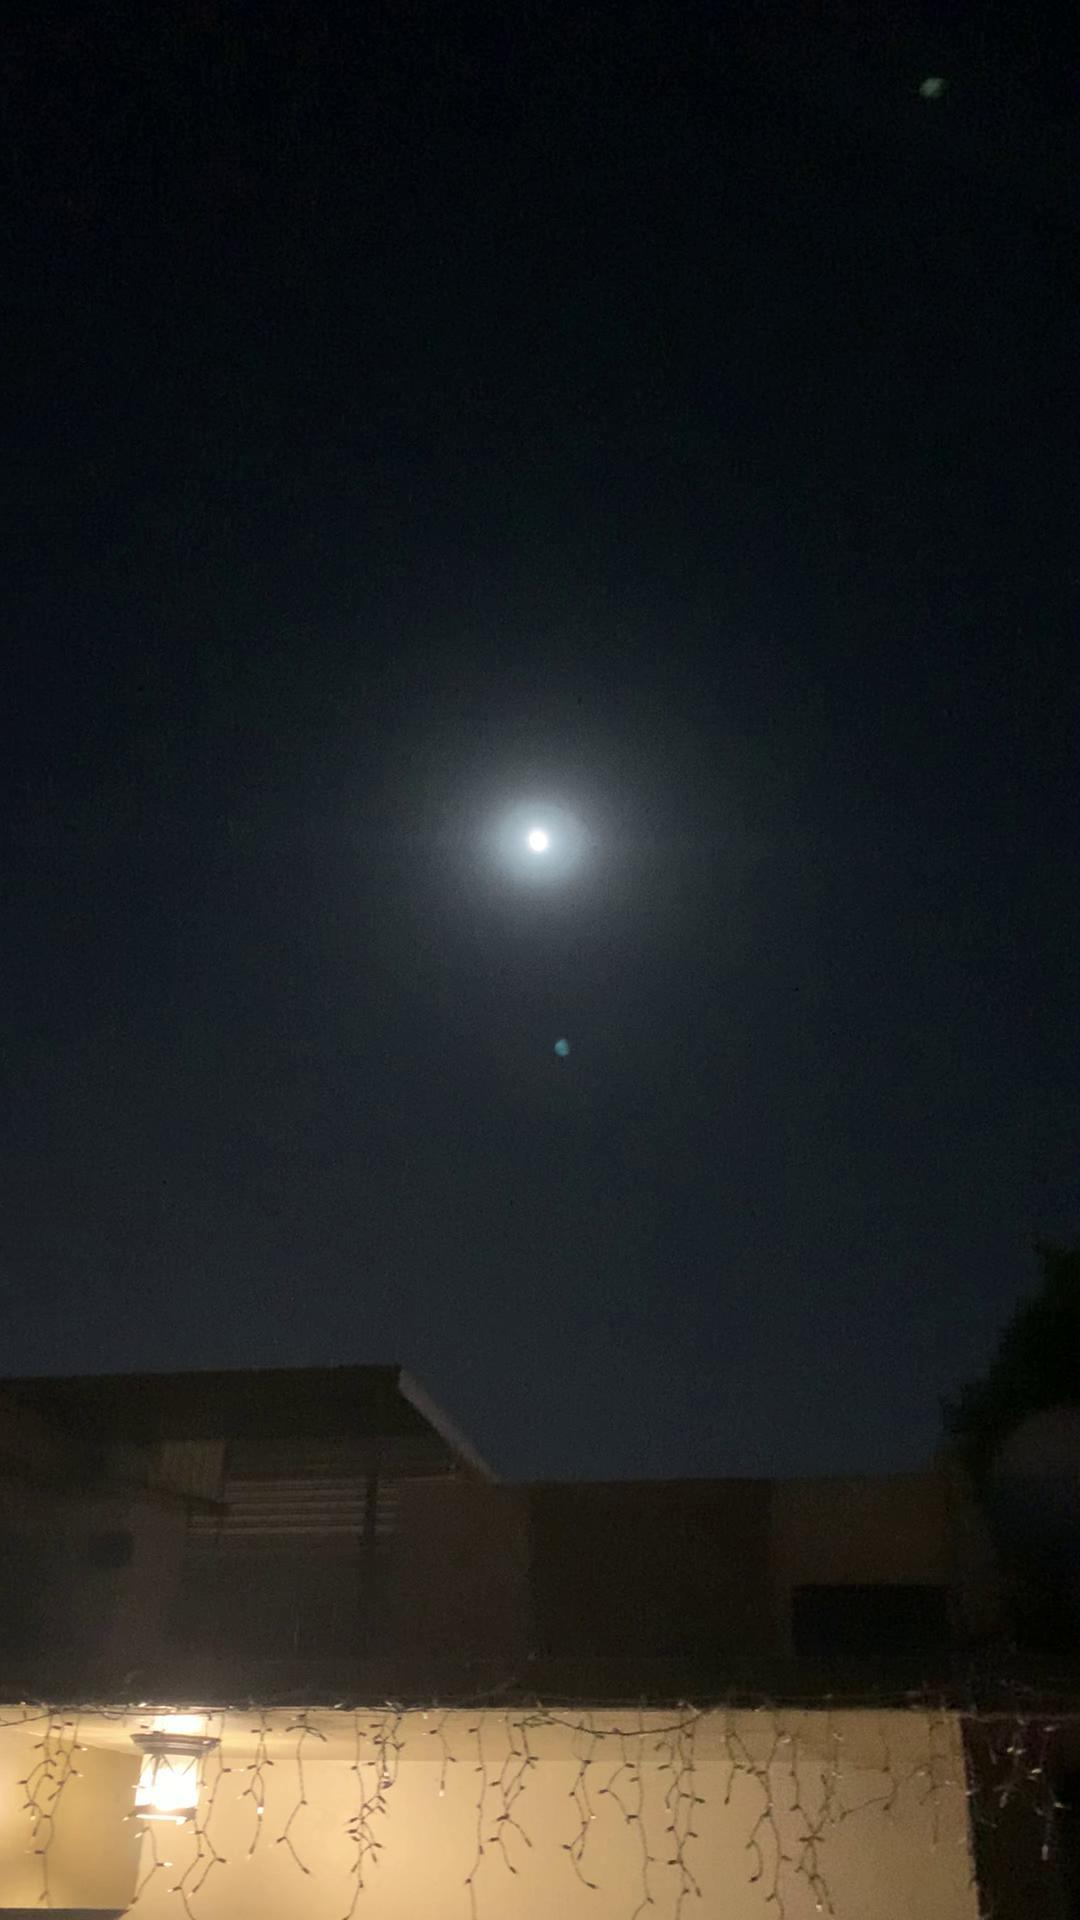moon: (496, 799, 583, 894)
